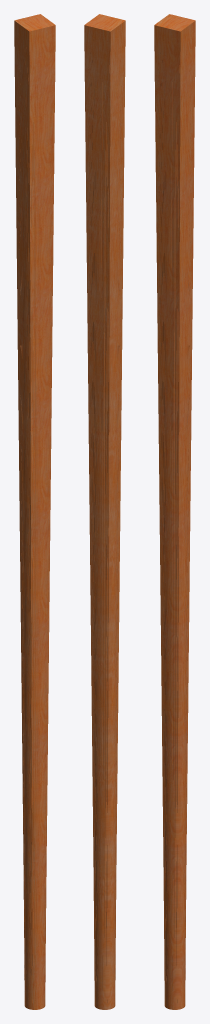
Rendered from Chopstick.fbx.
The picture shows the model from 3 angles, left to right: view 1: azimuth 30°, elevation 25°; view 2: azimuth 150°, elevation 25°; view 3: azimuth 330°, elevation 25°; orthographic projection.
Parts seen in each view (by area): view 1: Group2; view 2: Group2; view 3: Group2.
Part boxes in pixels (x1,y1,x2,y2): Group2: [14, 14, 55, 1009]; Group2: [84, 14, 125, 1009]; Group2: [154, 14, 195, 1009].
Size of the model in its own units: 17.82 by 635 by 17.82.
